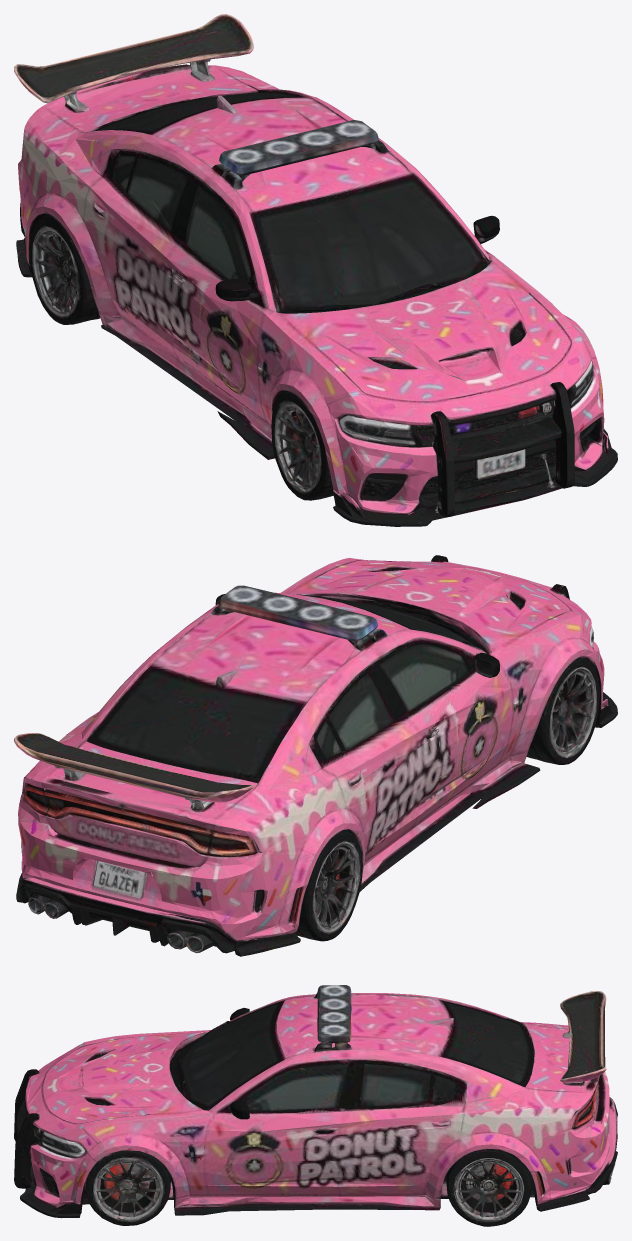
File: donut_patrol.glb
The picture shows the model from 3 angles, top to bottom: view 1: azimuth 30°, elevation 25°; view 2: azimuth 150°, elevation 25°; view 3: azimuth 270°, elevation 25°; orthographic projection. The views are drawn at different scales.
Visible parts, largest first — view 1: body, wheel_RR_mesh, wheel_FR_mesh; view 2: body, wheel_FR_mesh, wheel_RR_mesh; view 3: body, wheel_RL_mesh, wheel_FL_mesh.
Part boxes in pixels (x1=…): body: x1=14, y1=14, x2=617, y2=526; wheel_RR_mesh: x1=29, y1=213, x2=100, y2=324; wheel_FR_mesh: x1=271, y1=391, x2=333, y2=500; body: x1=14, y1=555, x2=617, y2=956; wheel_FR_mesh: x1=526, y1=656, x2=601, y2=764; wheel_RR_mesh: x1=296, y1=829, x2=362, y2=941; body: x1=14, y1=985, x2=617, y2=1218; wheel_RL_mesh: x1=446, y1=1149, x2=532, y2=1226; wheel_FL_mesh: x1=81, y1=1150, x2=173, y2=1225.
Bounding box in the file's own units: 2.01 × 1.5 × 4.94.
1 material, 1 textured.
